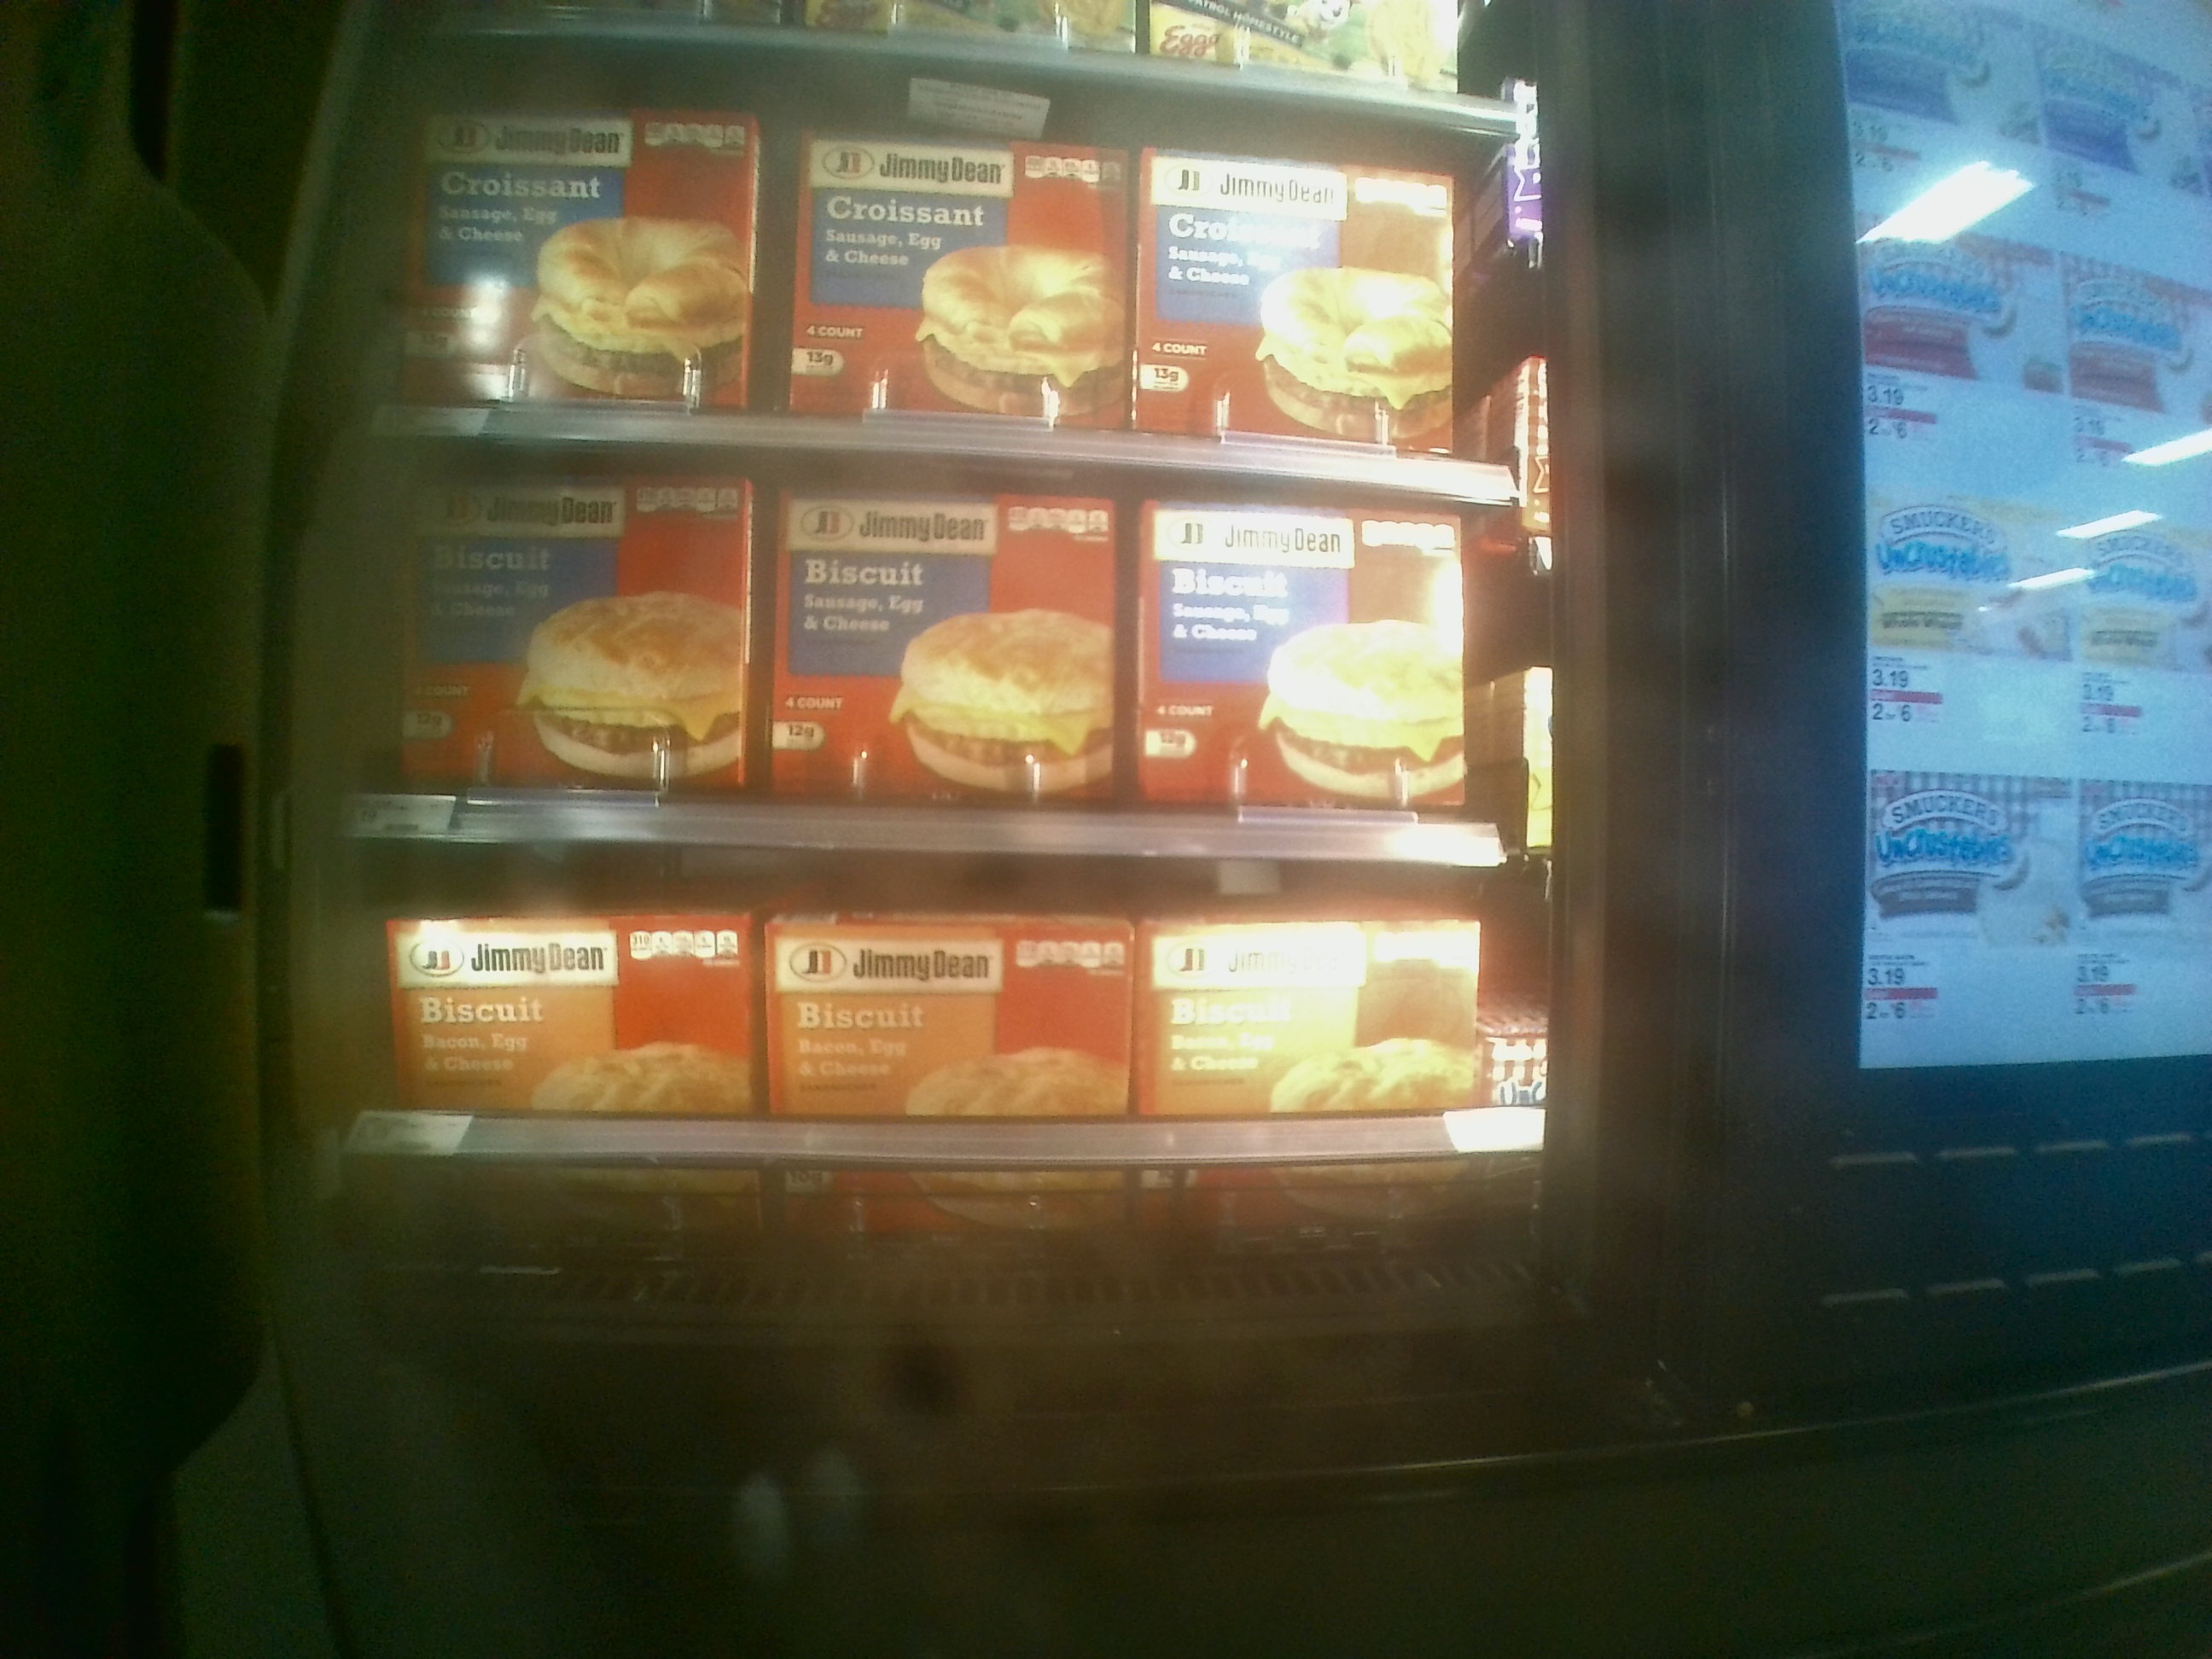shelf: (347, 852, 1561, 1265), (341, 430, 1543, 847)
